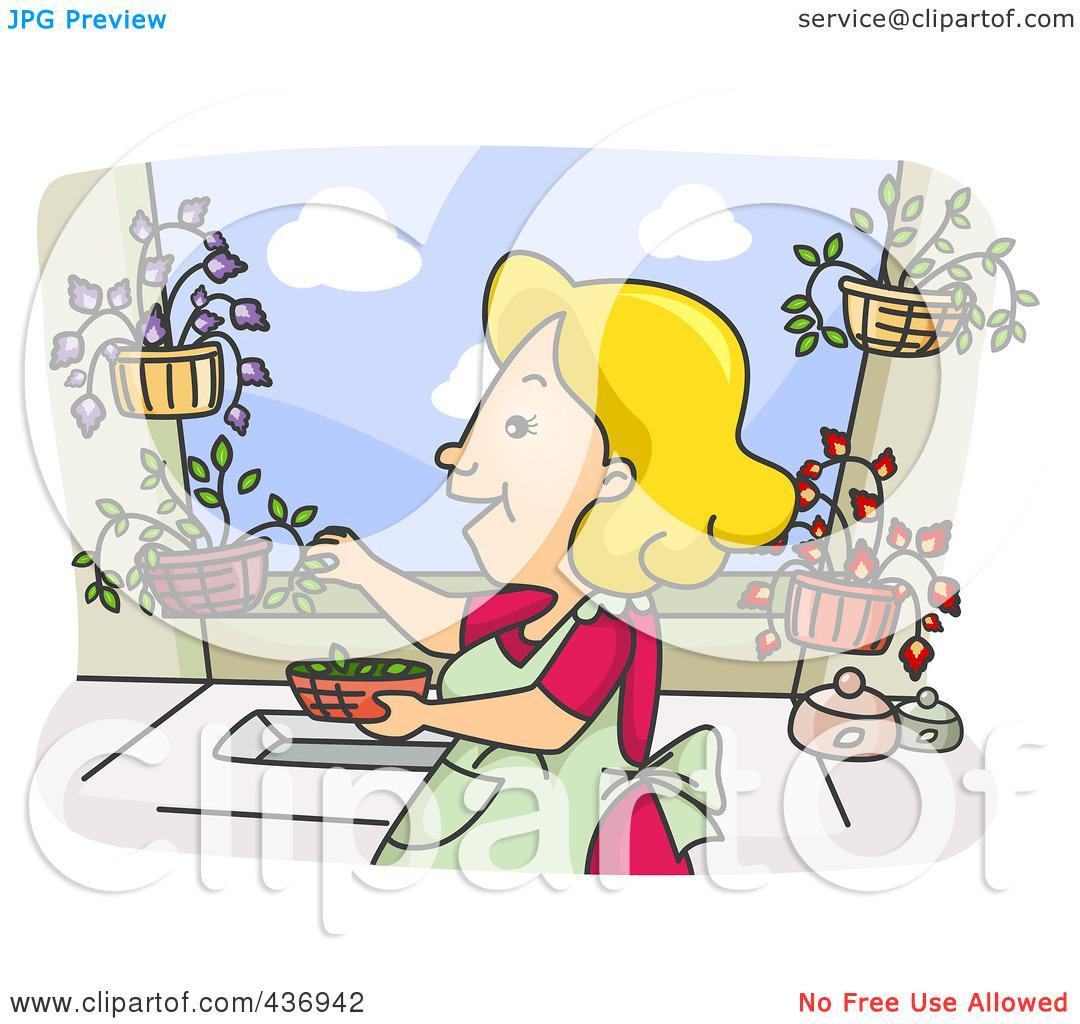person: (315, 239, 787, 889)
pottedplant: (43, 195, 299, 444), (759, 159, 1030, 385), (749, 413, 967, 685), (48, 441, 321, 637)
